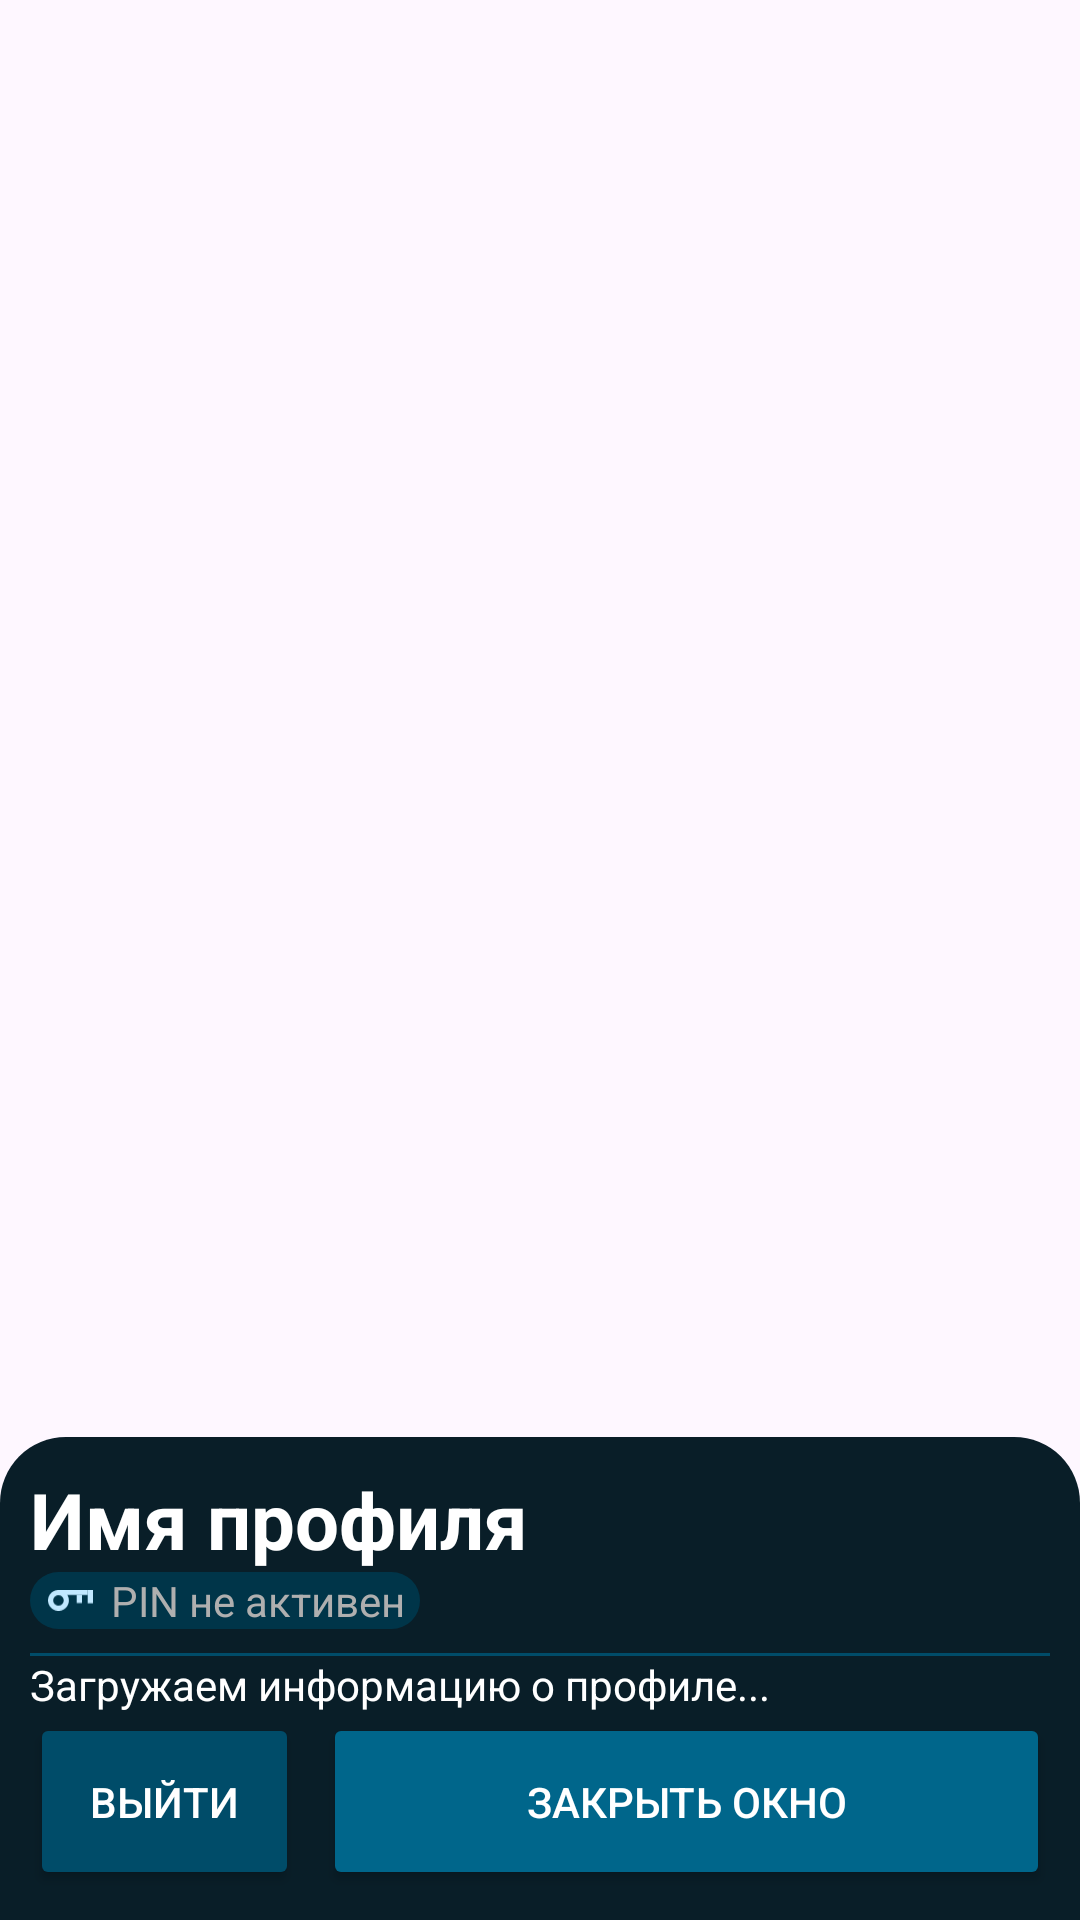

Icon click points for this 1080 x 1920 phone screenshot, format [x,y]:
key: [70,1600]
